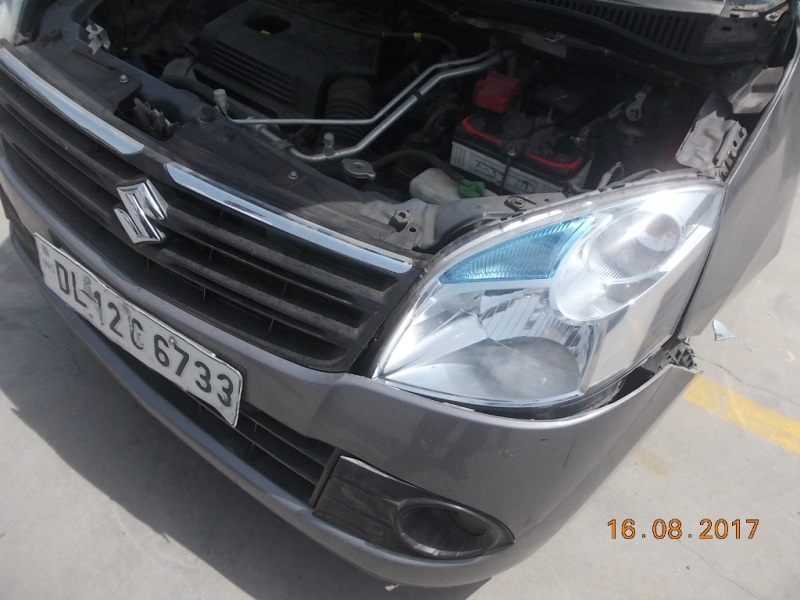Shatter: (6, 338, 125, 583), (222, 438, 346, 593), (135, 360, 206, 593), (357, 490, 503, 598)
